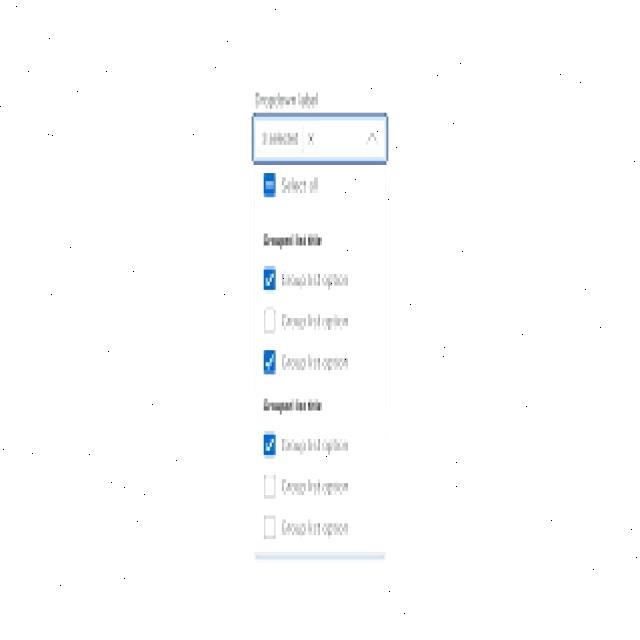checkbox: (263, 308, 277, 334), (262, 475, 277, 499), (262, 266, 276, 291), (263, 431, 275, 458), (263, 514, 275, 540), (263, 350, 276, 373)
dropdownMenu: (251, 115, 389, 563)
label: (260, 168, 332, 200), (258, 389, 326, 416), (252, 90, 320, 111), (262, 231, 325, 251)
menuItem: (260, 304, 354, 337), (259, 511, 352, 543), (260, 428, 350, 461), (260, 471, 352, 503), (260, 347, 354, 378), (260, 264, 353, 294)
tabControl: (252, 117, 322, 160)
